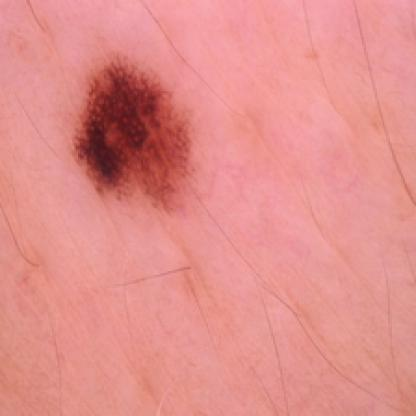benign: (69, 56, 212, 206)
